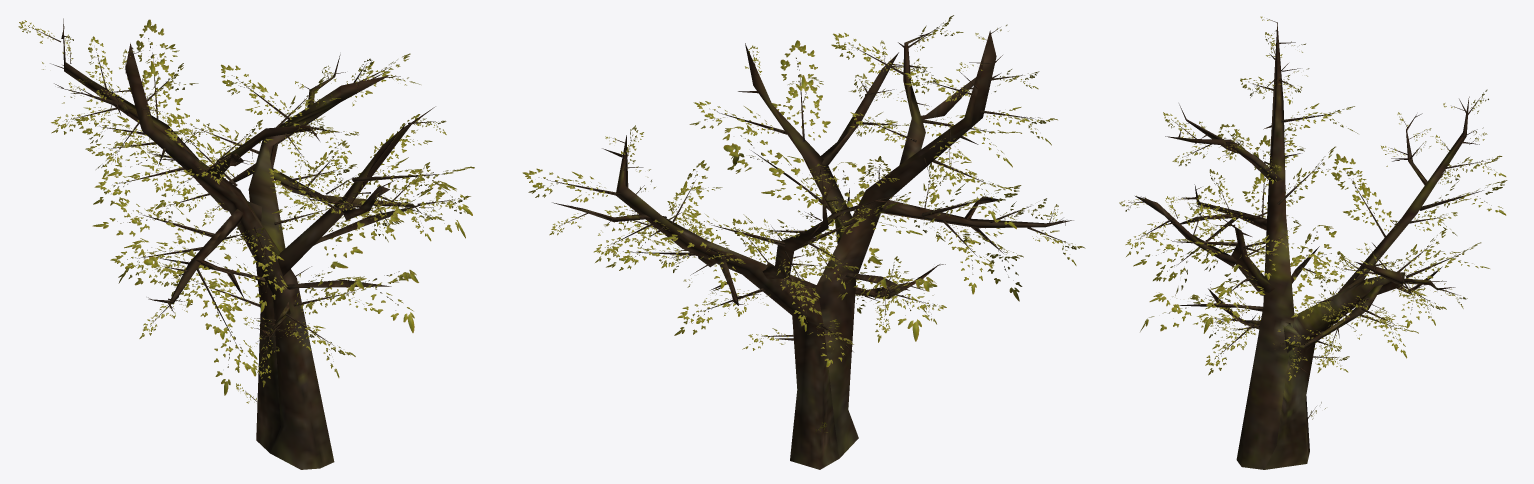
Rendered from Tree 1.FBX.
3 renders of one model, left to right at view 1: azimuth 30°, elevation 25°; view 2: azimuth 150°, elevation 25°; view 3: azimuth 270°, elevation 25°, orthographic. The views are drawn at different scales.
Visible parts, largest first — view 1: Tree; view 2: Tree; view 3: Tree.
Part boxes in pixels (bbox=[...]): Tree: bbox=[18, 18, 474, 469]; Tree: bbox=[522, 15, 1085, 469]; Tree: bbox=[1119, 16, 1507, 469].
Bounding box in the file's own units: 1851 × 1894 × 1849.
